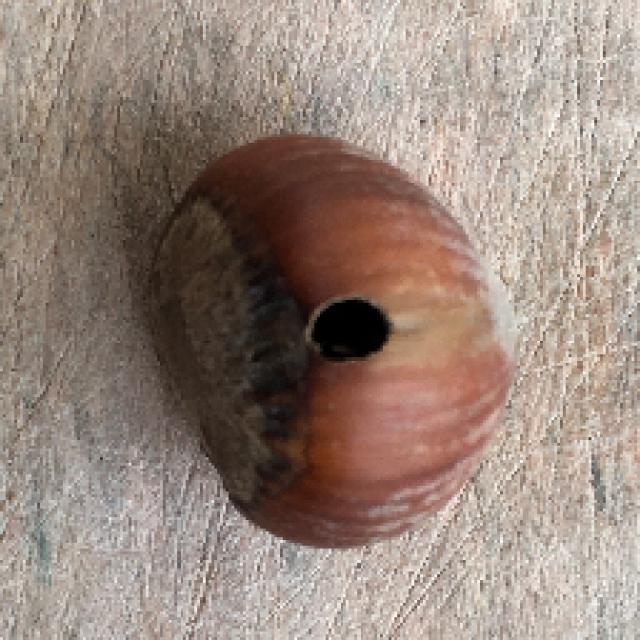damagedHazelnut: (148, 136, 520, 557)
